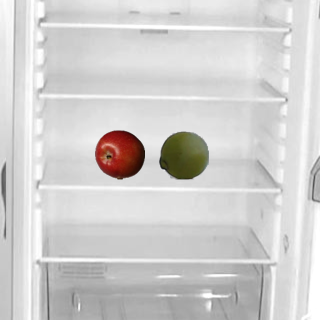Apple Braeburn: (94, 129, 144, 179)
Grape White 4: (158, 129, 208, 179)
